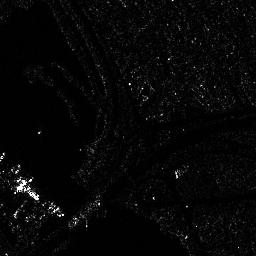ship: (11, 177, 39, 200), (39, 201, 68, 218)
